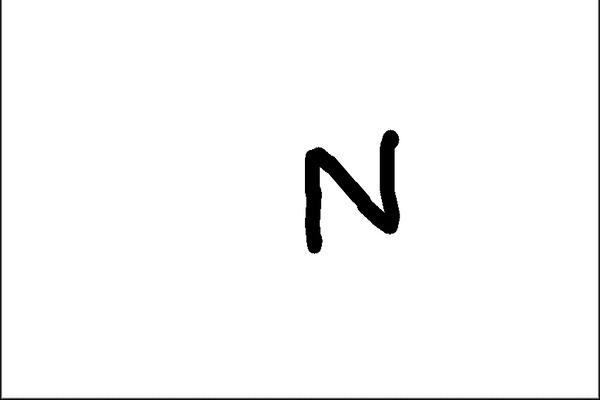N: (295, 124, 408, 256)
